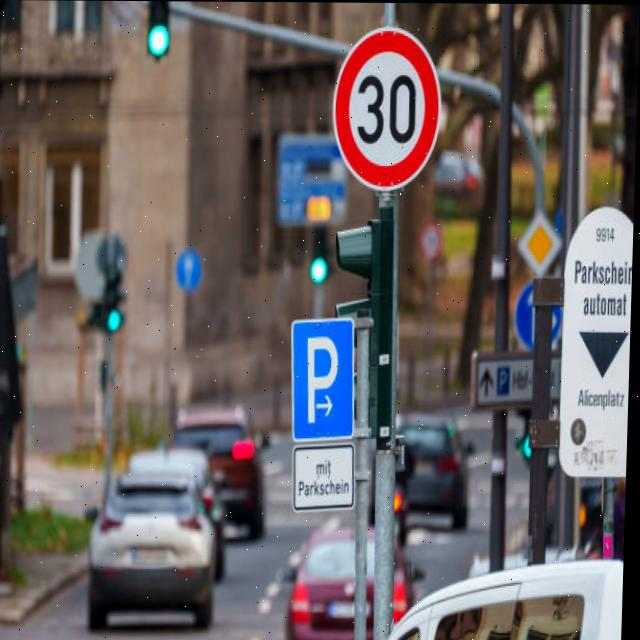Speed limit 30: (330, 23, 446, 195)
